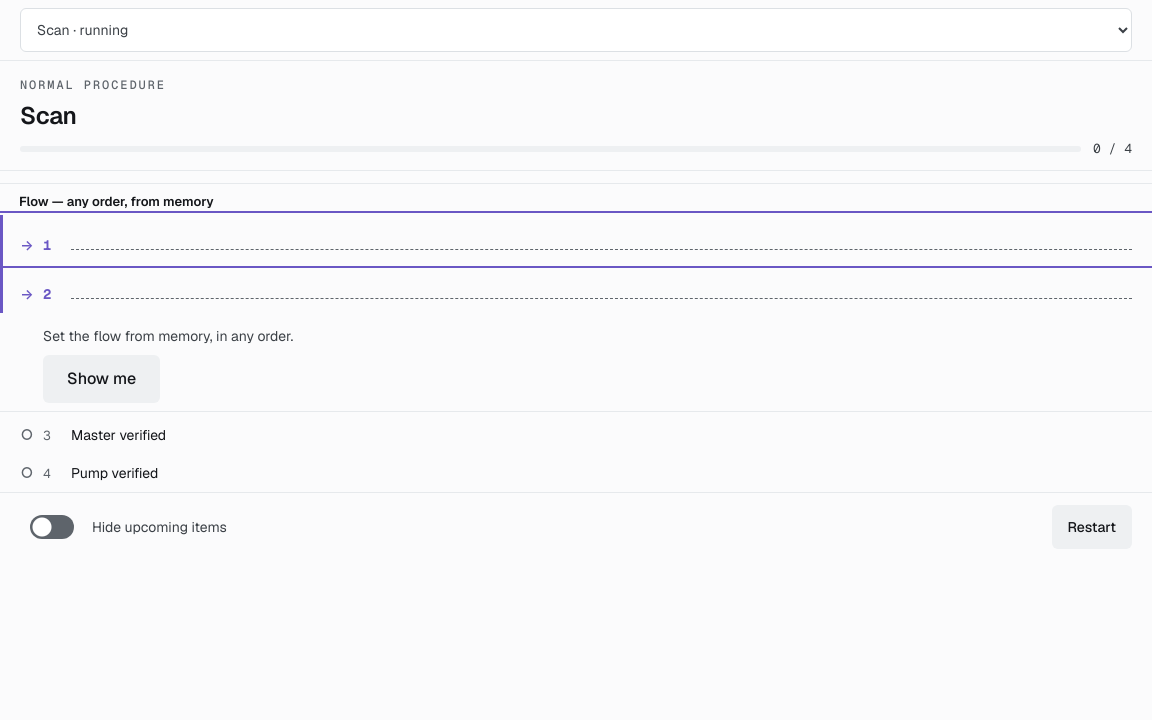
Test case: Practice recall › keeps every flow row blank until the flow is done or shown
The width and height of the screenshot is (1152, 720).
Click the checkbox labelled "Hide upcoming items" at (52, 527), box x1=20 y1=505 x2=84 y2=549
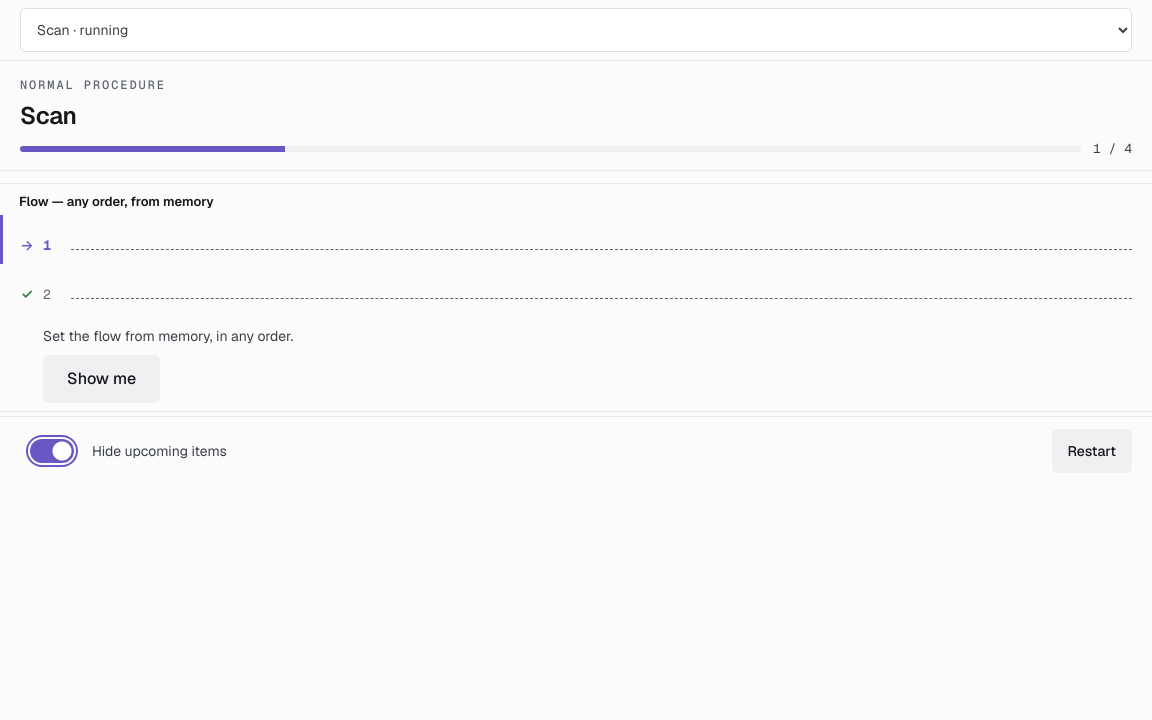
Check: the text "Pump flow" is not shown
Check: the text "Master verified" is gone
Click the button "Show me" at (102, 379), box x1=43 y1=355 x2=160 y2=403
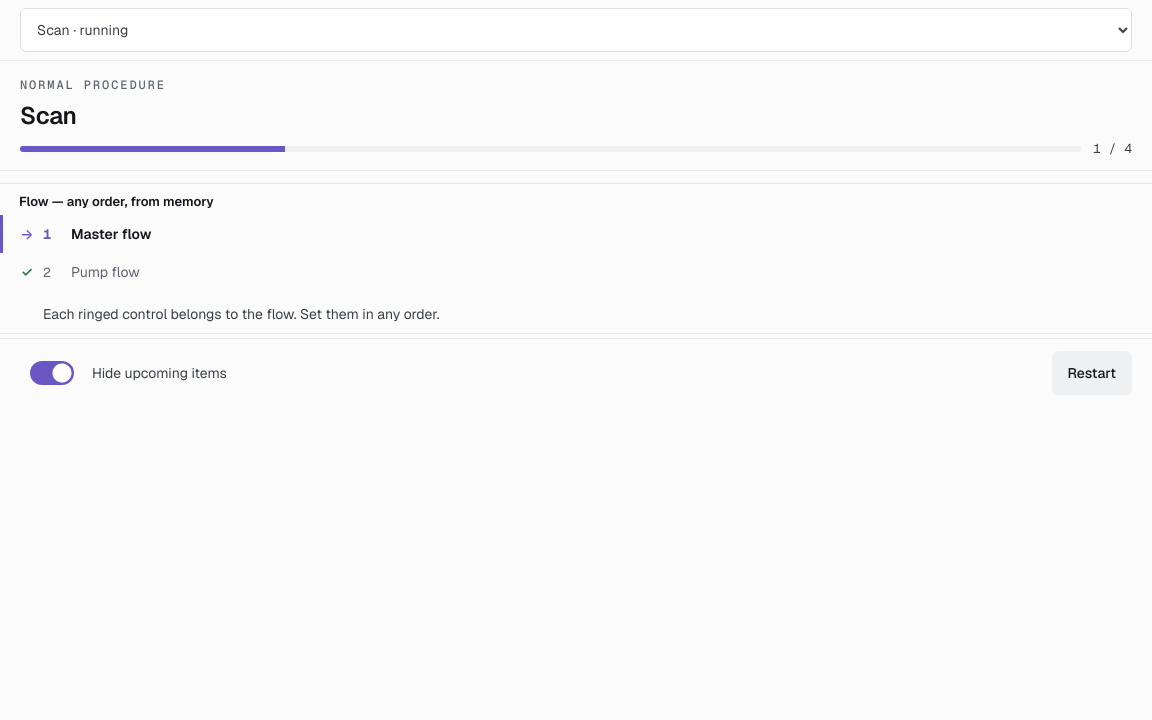
Check: the text "Master flow" is shown, box x1=71 y1=225 x2=151 y2=243
Check: the text "Pump flow" is shown, box x1=71 y1=263 x2=140 y2=281
